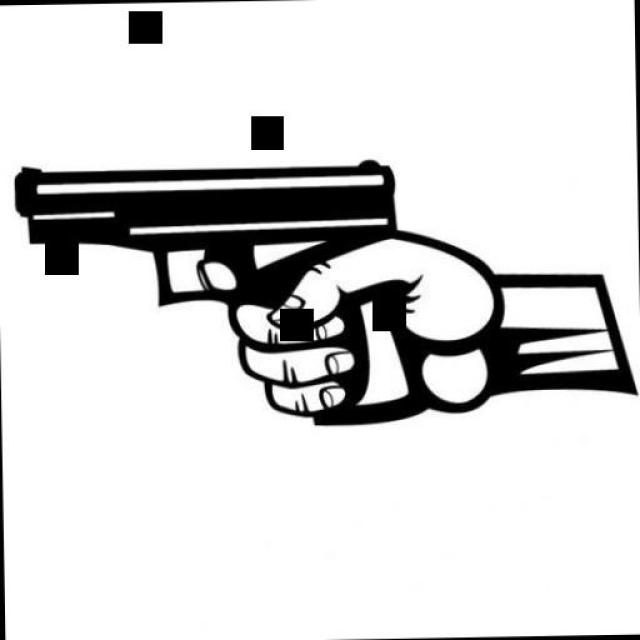gun: (10, 154, 439, 436)
